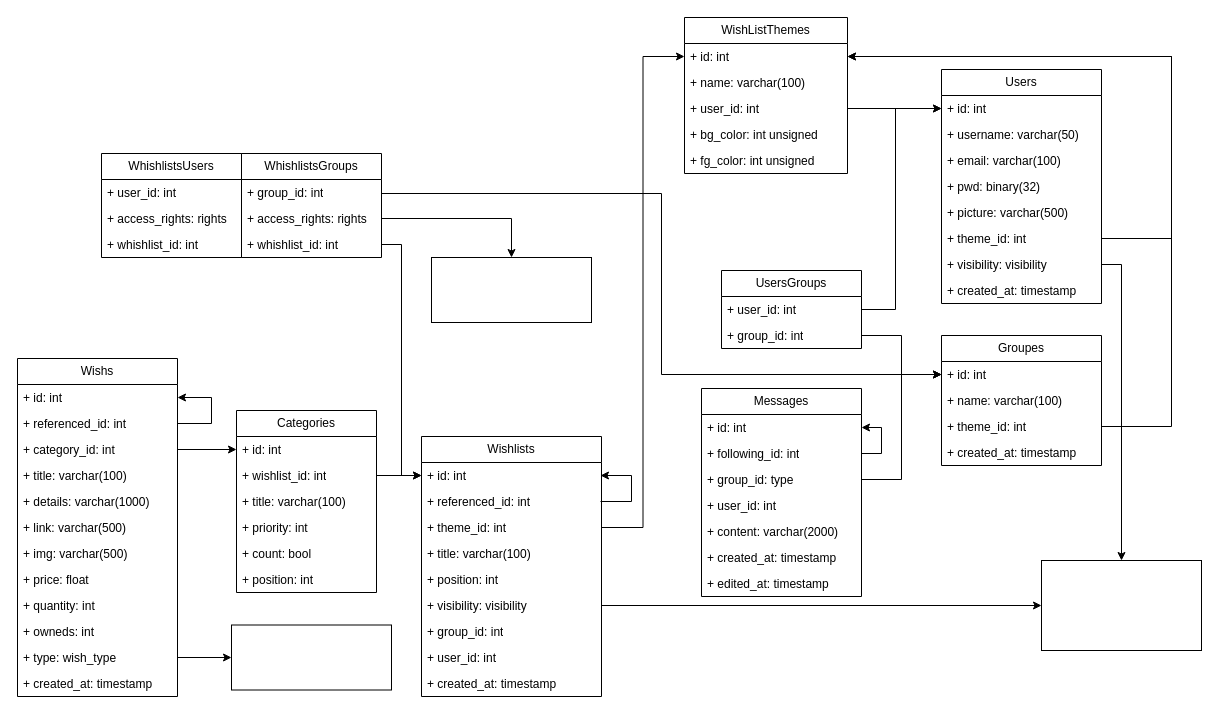
Some shapes in this 1219 by 717 pixel diagram are drawn without their labels. The shapes that lost their labels are listed below. From the top down, each one's centre as x and y in pixels, then its label:
At (511,289): "Enum: rights READ_ONLY READ_WRITE".
At (1121,605): "Enum: visibility PRIVATE UNREFERENCED PUBLIC".
At (311,657): "Enum: wish_type UNIVERSE WISH".
